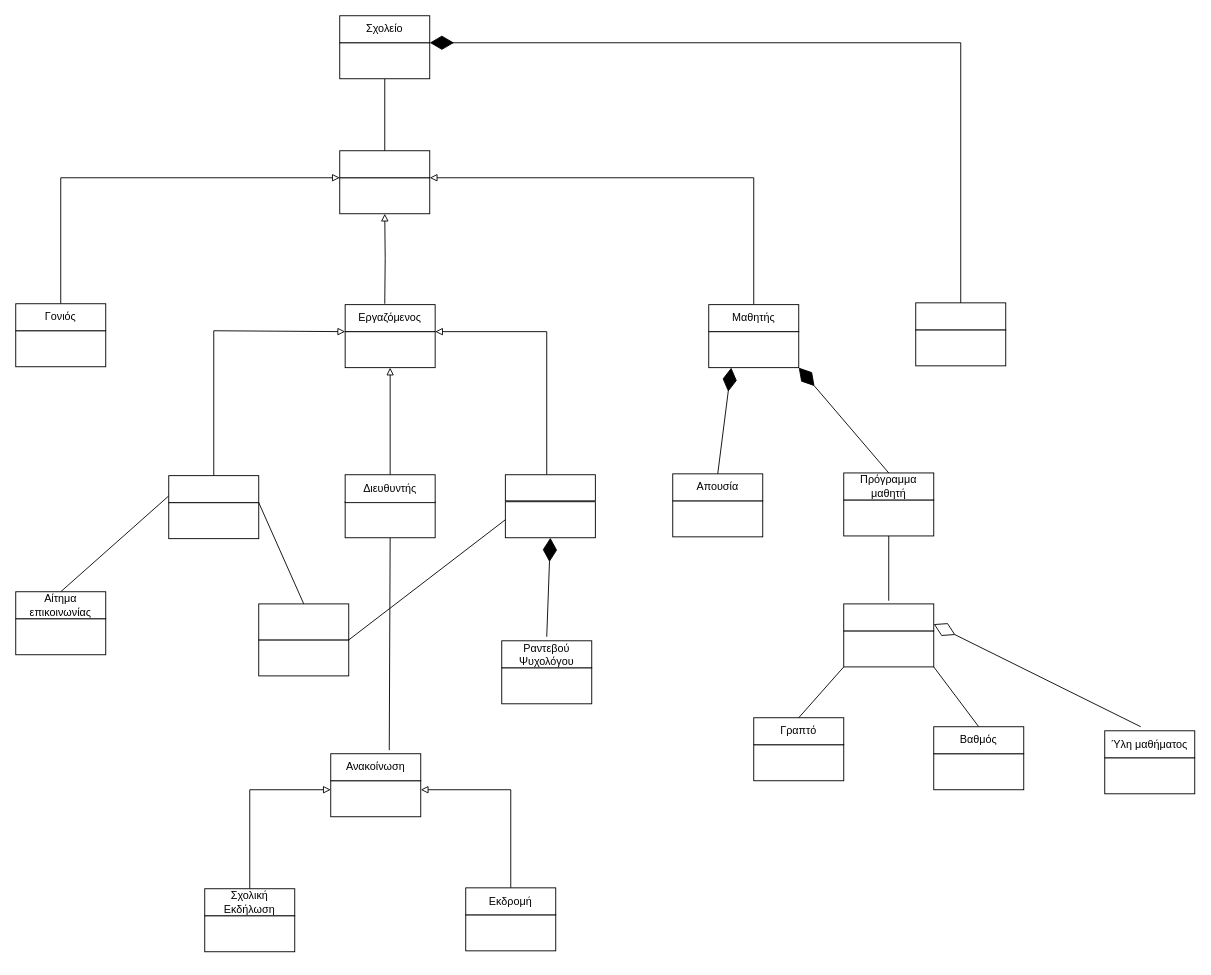
Some shapes in this 1211 by 975 pixel diagram are drawn without their labels. Here are the shapes that lost their labels. From the top down, the centre of each, then its label:
[384,164]: Χρήστης
[960,316]: Τάξη
[213,489]: Καθηγητής
[549,487]: Ψυχολόγος
[303,621]: Πορεία-Κατάσταση Μαθητή
[888,617]: Μάθημα
